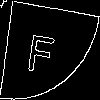F: (25, 25, 58, 75)
